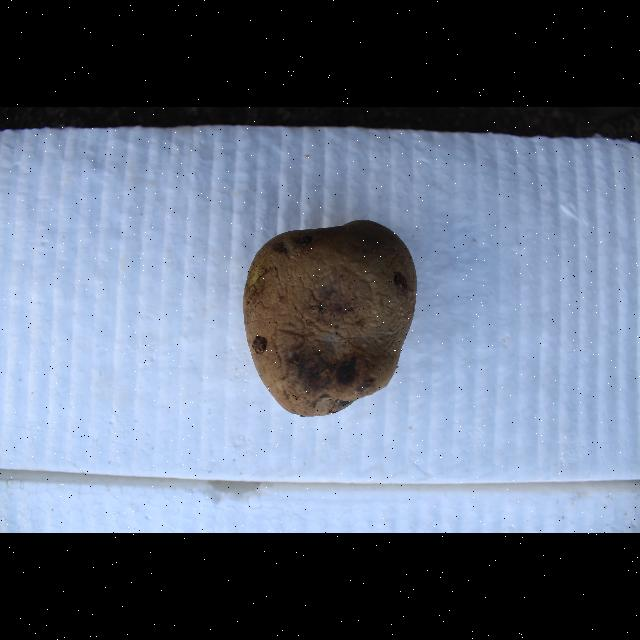Diseased-fungal potato: (237, 217, 416, 421)
